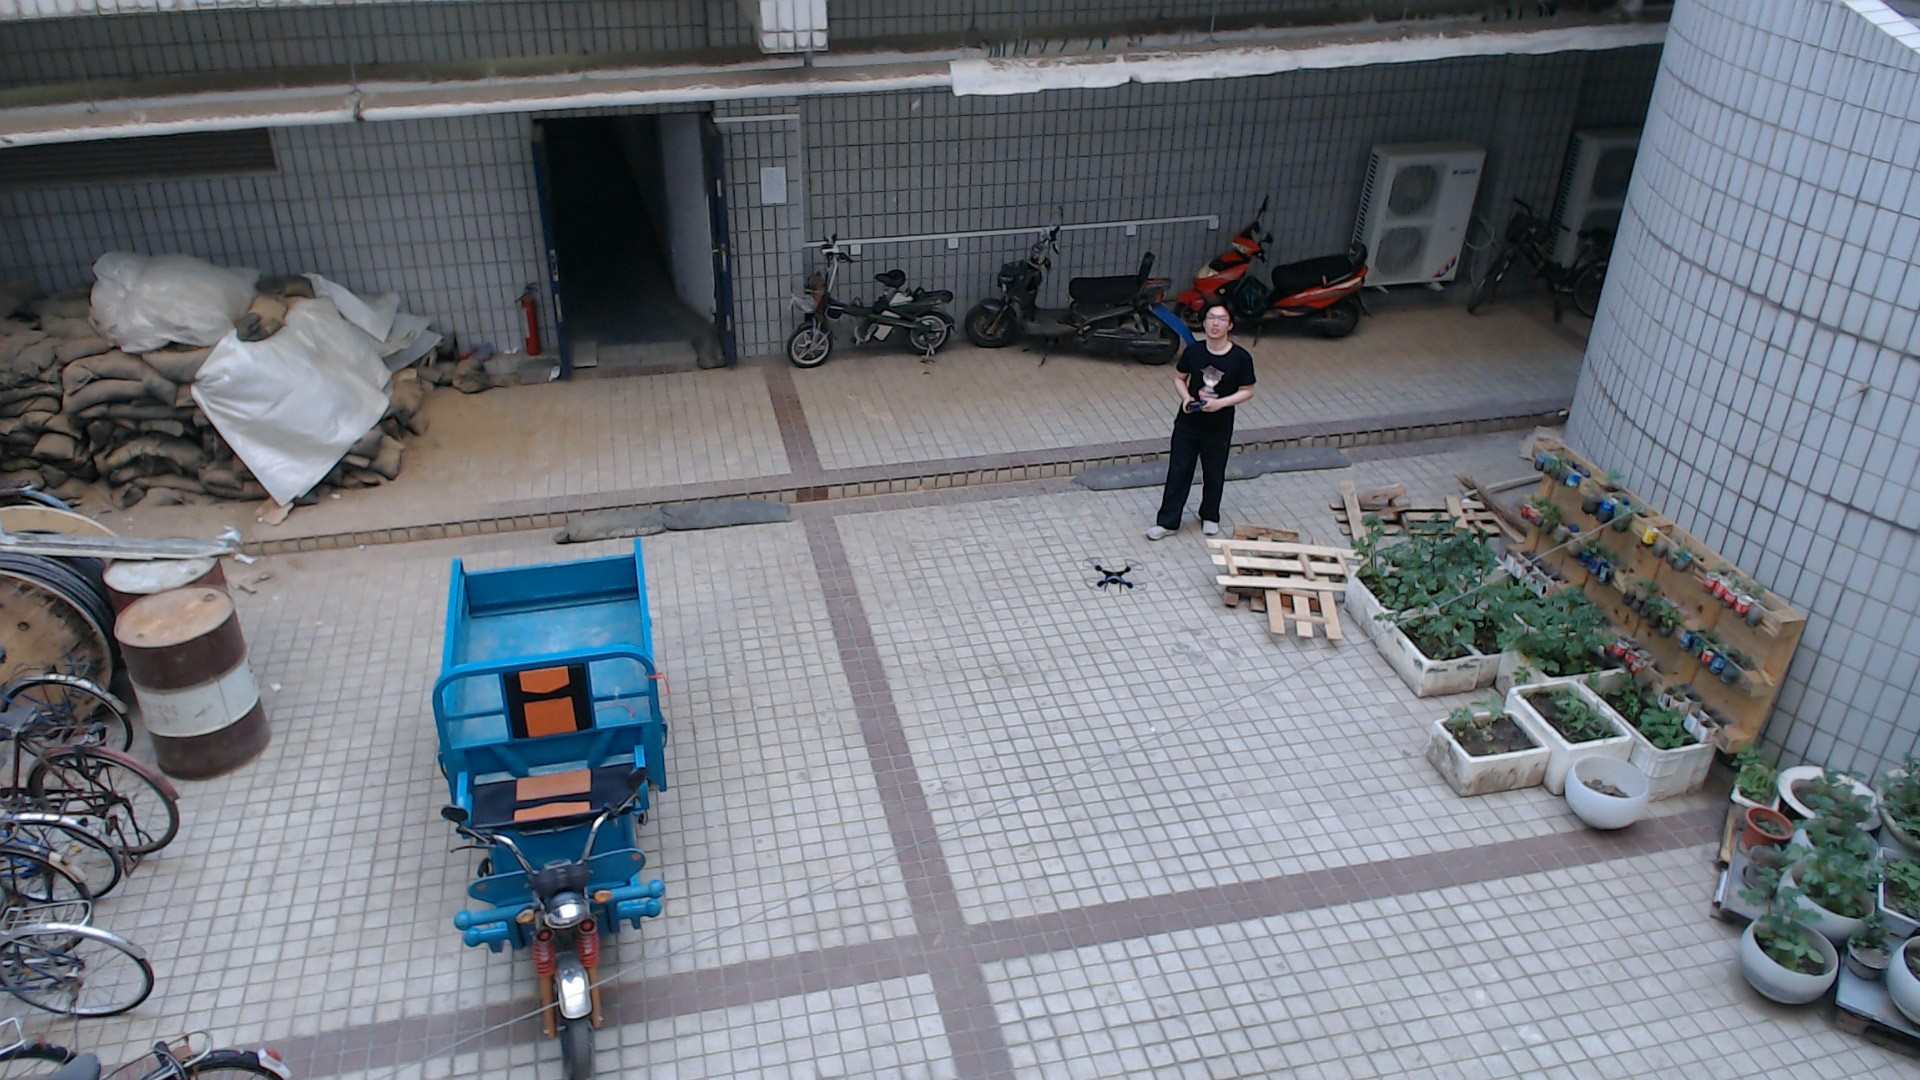drone: (1074, 541, 1151, 611)
person: (1136, 289, 1264, 546)
